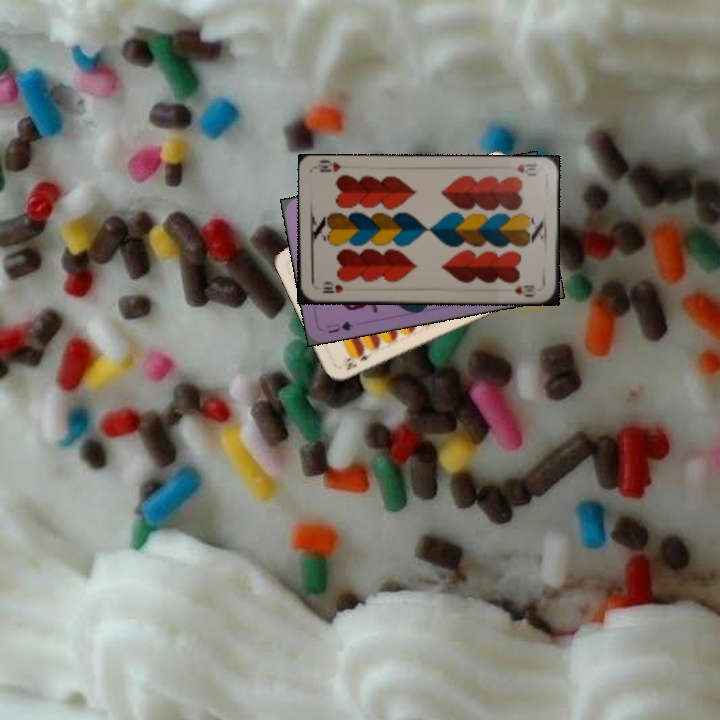E10: (342, 348, 376, 373)
GU: (323, 317, 356, 336)
H10: (512, 159, 539, 178), (318, 281, 346, 295)
